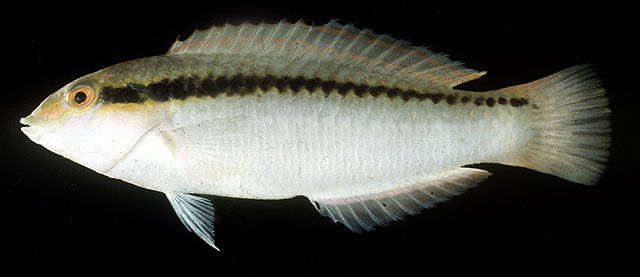fish: (19, 18, 613, 253)
